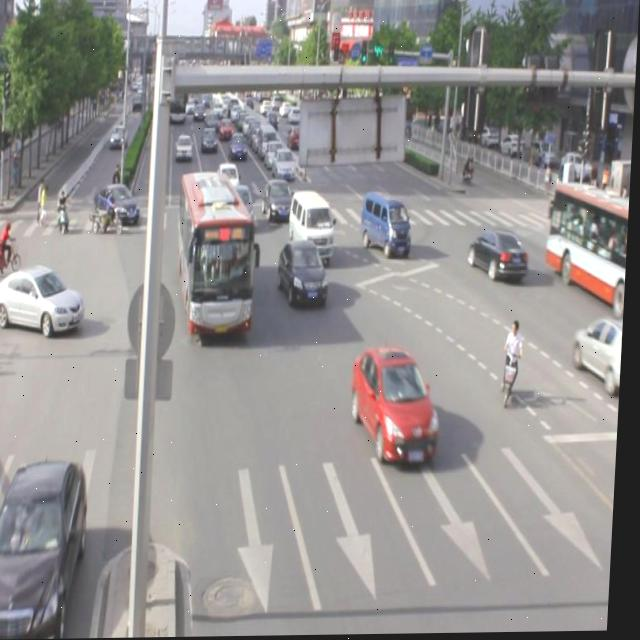car: (0, 458, 94, 640), (353, 345, 446, 466), (573, 316, 627, 394), (280, 239, 333, 307), (469, 229, 531, 281)
truck: (362, 192, 415, 257), (290, 190, 337, 261)
van: (178, 171, 260, 334), (545, 182, 632, 329)
